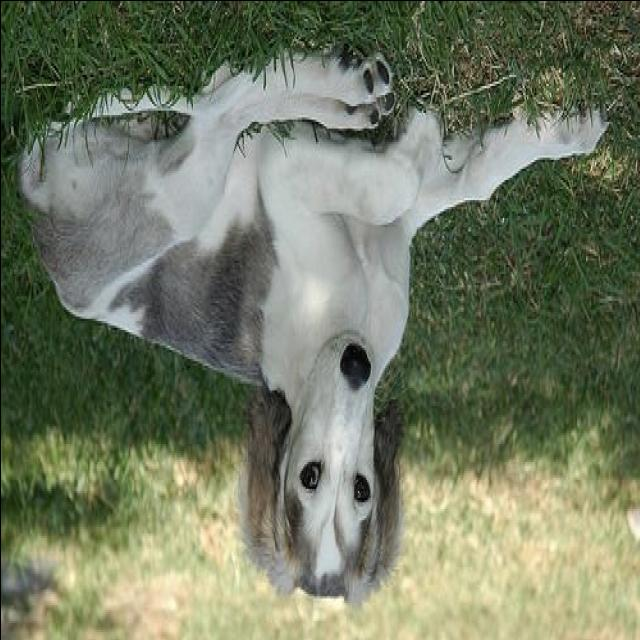saluki: (16, 48, 610, 618)
